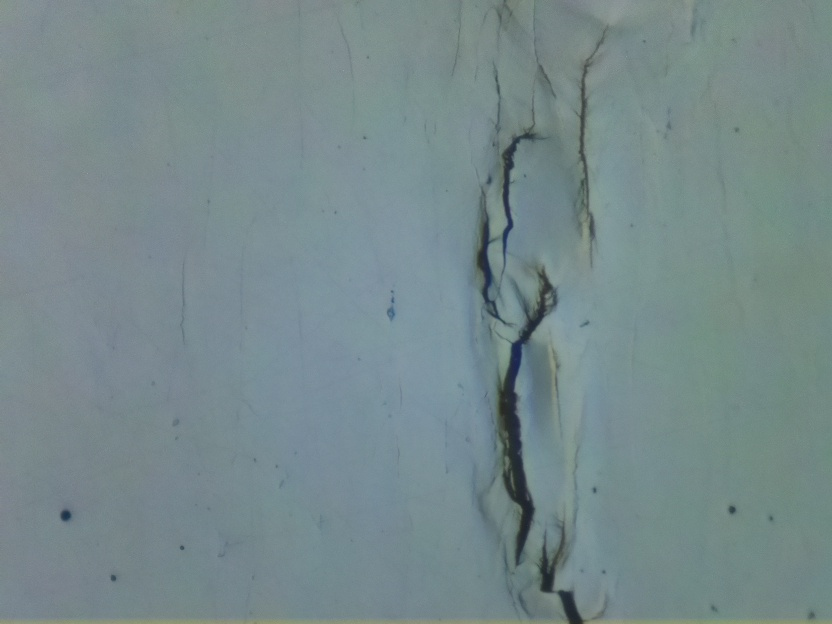crack: (503, 267, 556, 566), (573, 29, 609, 262), (460, 197, 517, 332), (504, 107, 540, 264), (539, 517, 583, 624)
